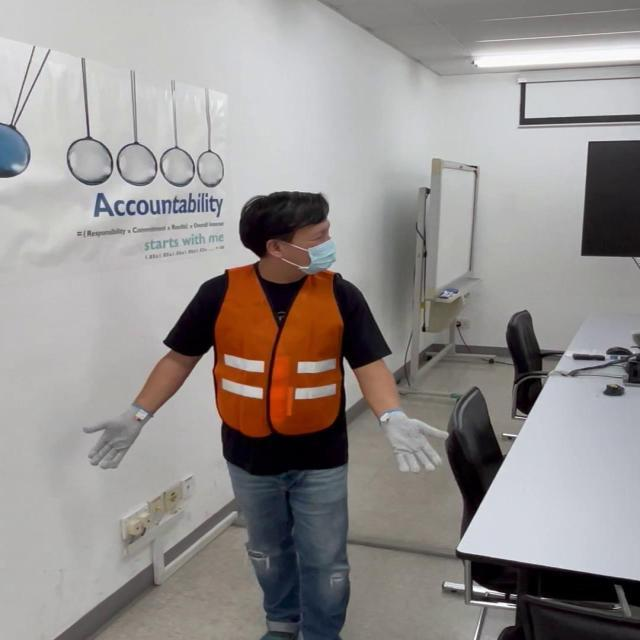gloved_hand: (86, 404, 157, 464), (381, 409, 449, 471)
